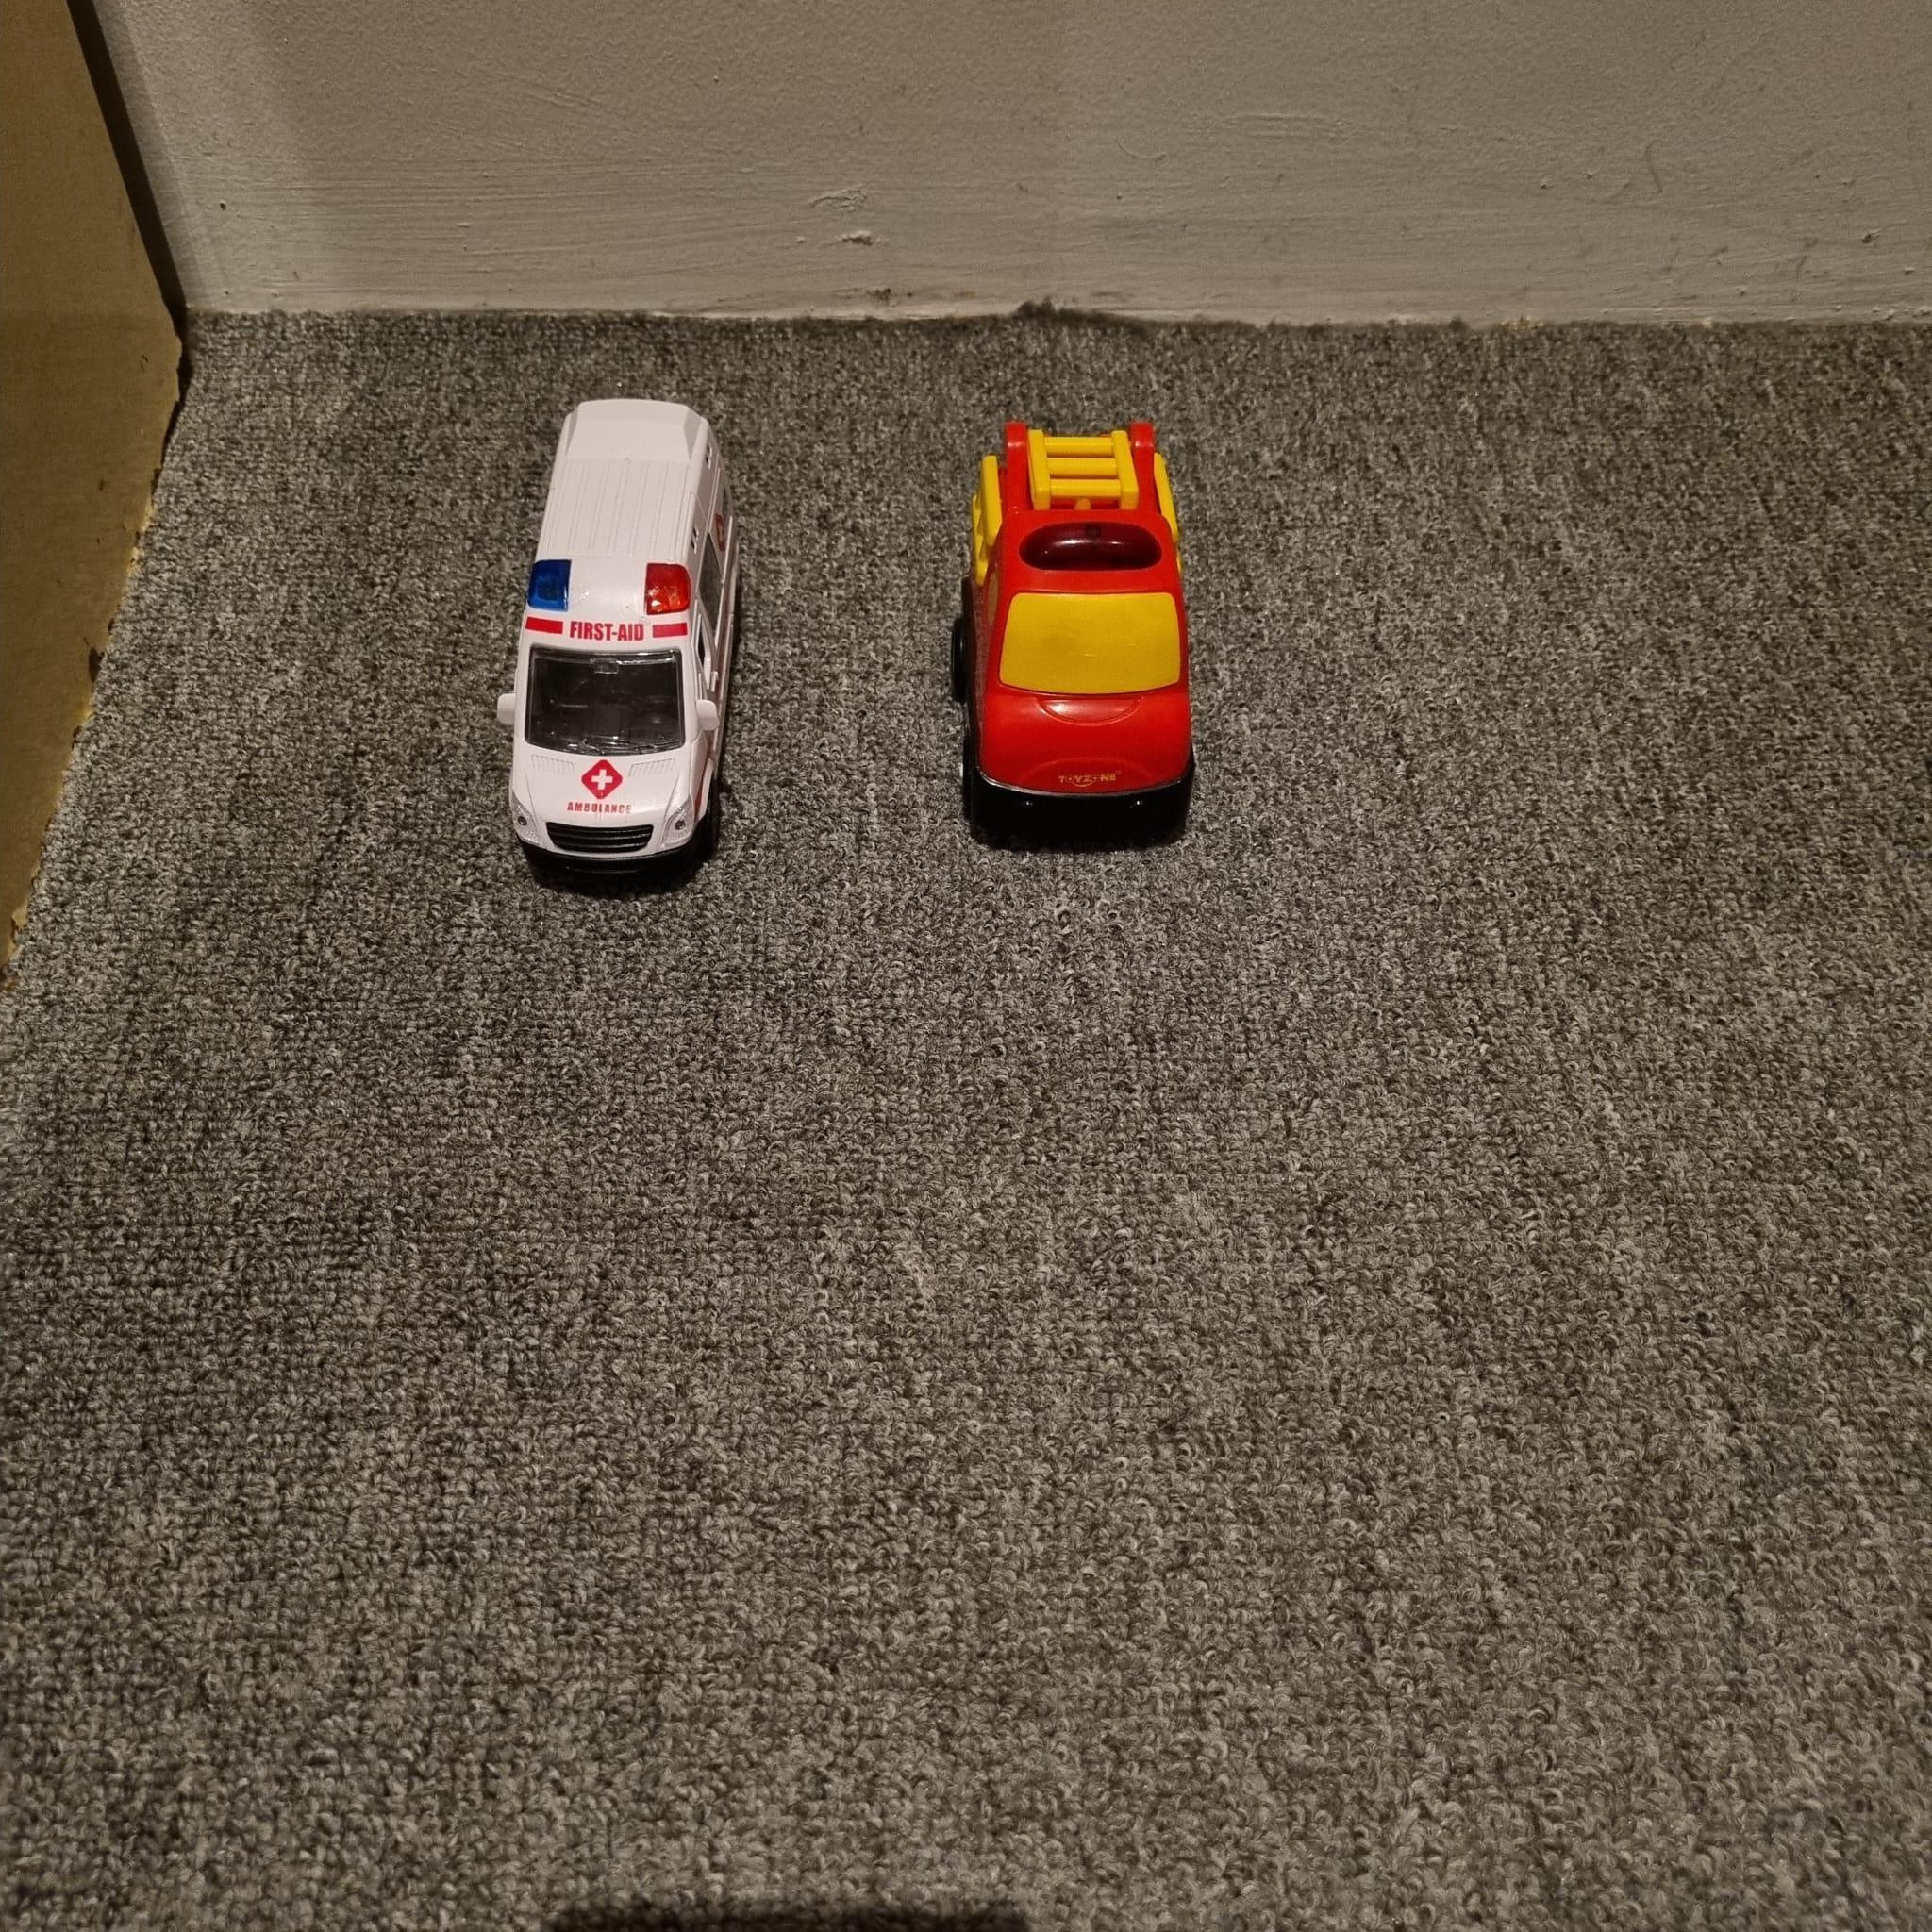ambulance_off: (494, 396, 745, 883)
firetruck_off: (955, 421, 1198, 851)
